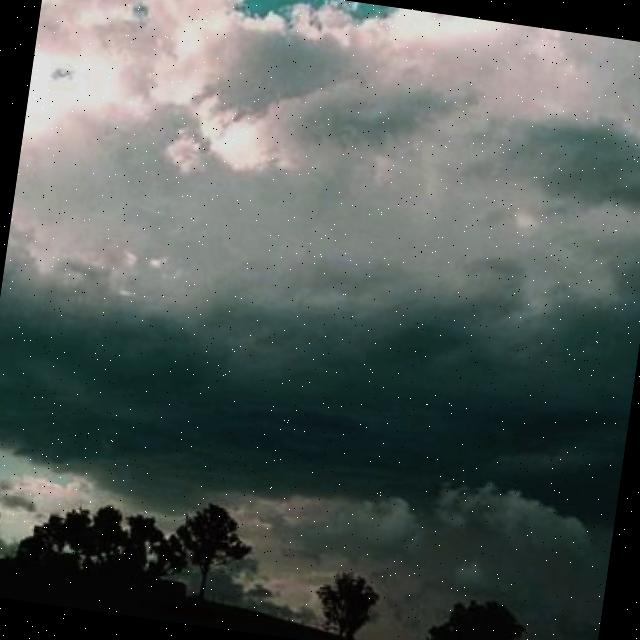St: (1, 1, 640, 515)
